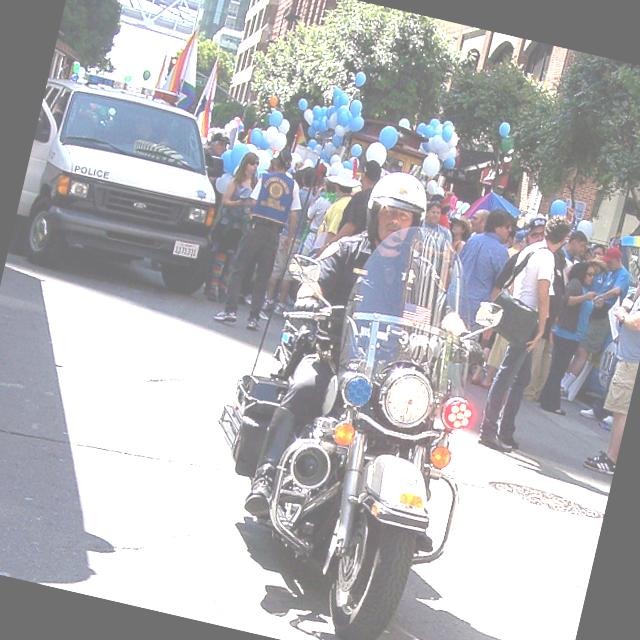Vehicle: (184, 190, 516, 640), (8, 74, 237, 294)
